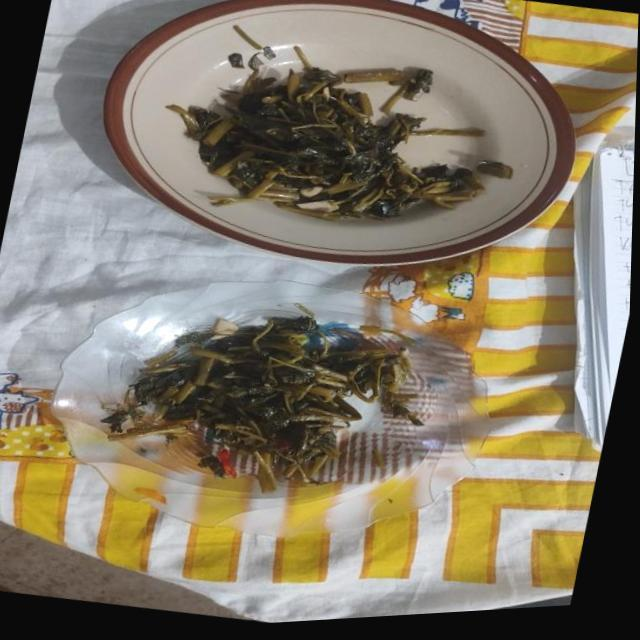tumis_kangkung: (100, 302, 421, 492), (171, 46, 484, 222)
